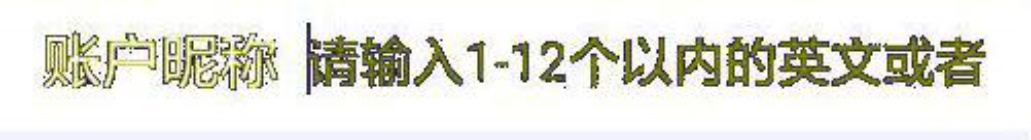EditText: (1, 1, 1030, 139)
